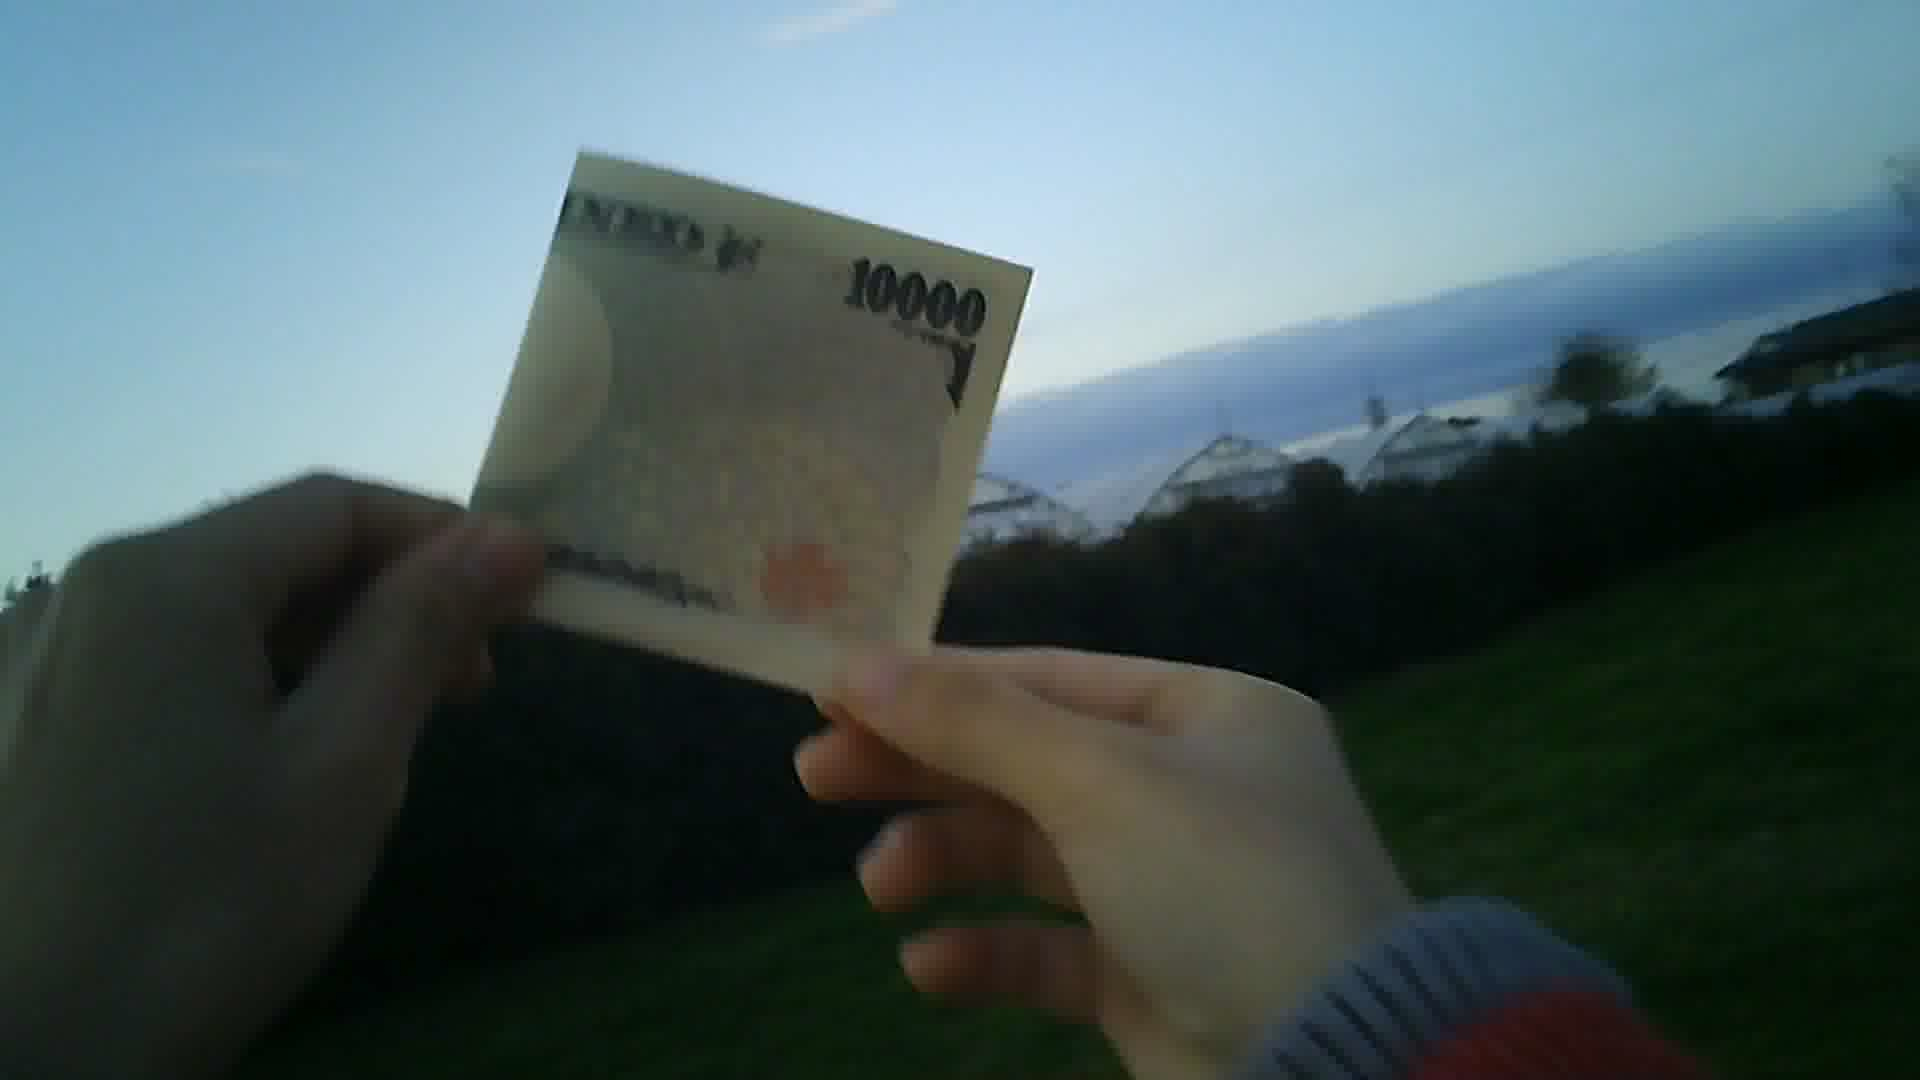10,000 Yen: (475, 141, 1019, 709)
